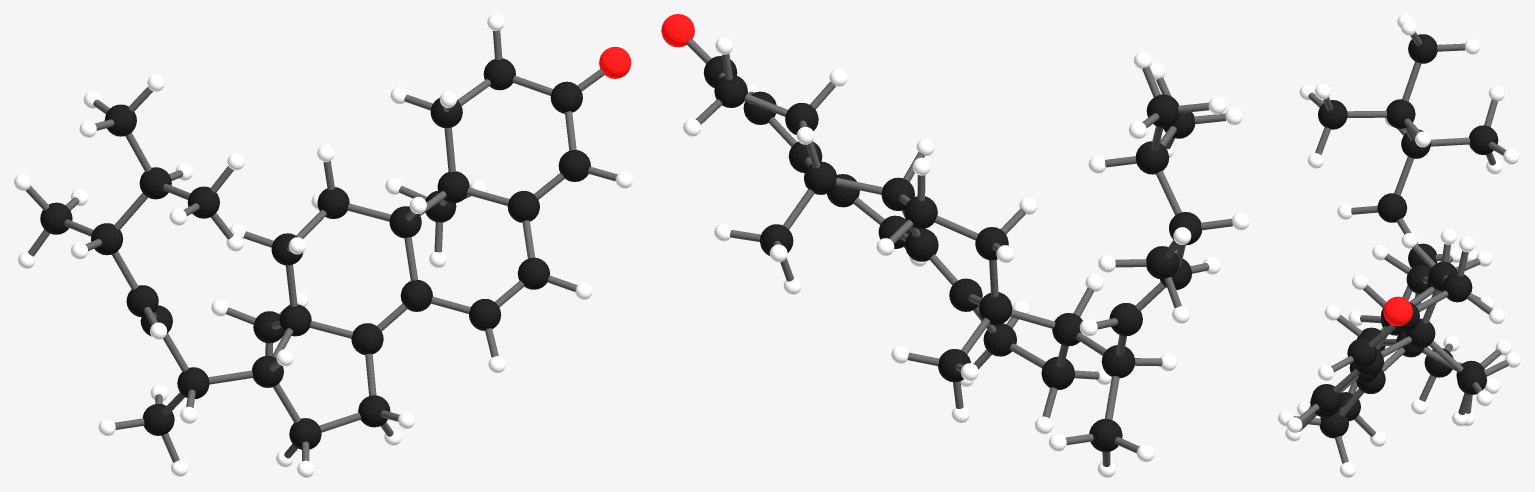
File: molecule.glb
3 renders of one model, left to right at view 1: azimuth 30°, elevation 25°; view 2: azimuth 150°, elevation 25°; view 3: azimuth 270°, elevation 25°, orthographic. The views are drawn at different scales.
Parts seen in each view (by area): view 1: geometry_19, geometry_12, geometry_13, geometry_15, geometry_18, geometry_14, geometry_16, geometry_17, geometry_25, geometry_20, geometry_27, geometry_22 (+14 smaller); view 2: geometry_19, geometry_20, geometry_22, geometry_27, geometry_6, geometry_25, geometry_13, geometry_8, geometry_1, geometry_0, geometry_4, geometry_10 (+12 smaller); view 3: geometry_19, geometry_5, geometry_15, geometry_17, geometry_20, geometry_1, geometry_4, geometry_0, geometry_23, geometry_2, geometry_22, geometry_11 (+15 smaller).
Boxes of the visible parts, left/top/right/bottom form: geometry_19: left=599, top=46, right=631, bottom=78; geometry_12: left=351, top=323, right=383, bottom=354; geometry_13: left=400, top=280, right=432, bottom=311; geometry_15: left=517, top=257, right=549, bottom=289; geometry_18: left=550, top=81, right=582, bottom=113; geometry_14: left=469, top=299, right=500, bottom=330; geometry_16: left=507, top=191, right=539, bottom=222; geometry_17: left=558, top=150, right=590, bottom=181; geometry_25: left=317, top=187, right=349, bottom=218; geometry_20: left=483, top=58, right=515, bottom=90; geometry_27: left=279, top=304, right=311, bottom=336; geometry_22: left=437, top=171, right=469, bottom=202; geometry_19: left=661, top=14, right=694, bottom=47; geometry_20: left=714, top=75, right=747, bottom=107; geometry_22: left=804, top=161, right=837, bottom=194; geometry_27: left=979, top=292, right=1012, bottom=325; geometry_6: left=1109, top=303, right=1142, bottom=336; geometry_25: left=904, top=196, right=937, bottom=229; geometry_13: left=905, top=229, right=938, bottom=261; geometry_8: left=1089, top=419, right=1122, bottom=451; geometry_1: left=1135, top=141, right=1169, bottom=174; geometry_0: left=1146, top=94, right=1179, bottom=127; geometry_4: left=1146, top=246, right=1179, bottom=279; geometry_10: left=1041, top=356, right=1074, bottom=389; geometry_19: left=1383, top=296, right=1412, bottom=326; geometry_5: left=1377, top=193, right=1407, bottom=222; geometry_15: left=1311, top=384, right=1341, bottom=413; geometry_17: left=1347, top=338, right=1377, bottom=367; geometry_20: left=1442, top=272, right=1472, bottom=302; geometry_1: left=1386, top=99, right=1415, bottom=128; geometry_4: left=1469, top=125, right=1498, bottom=154; geometry_0: left=1408, top=34, right=1437, bottom=63; geometry_23: left=1457, top=365, right=1486, bottom=394; geometry_2: left=1318, top=100, right=1347, bottom=129; geometry_22: left=1405, top=318, right=1435, bottom=348; geometry_11: left=1319, top=409, right=1348, bottom=438.
Bounding box in the file's own units: 0.26 × 0.1826 × 0.1057.
